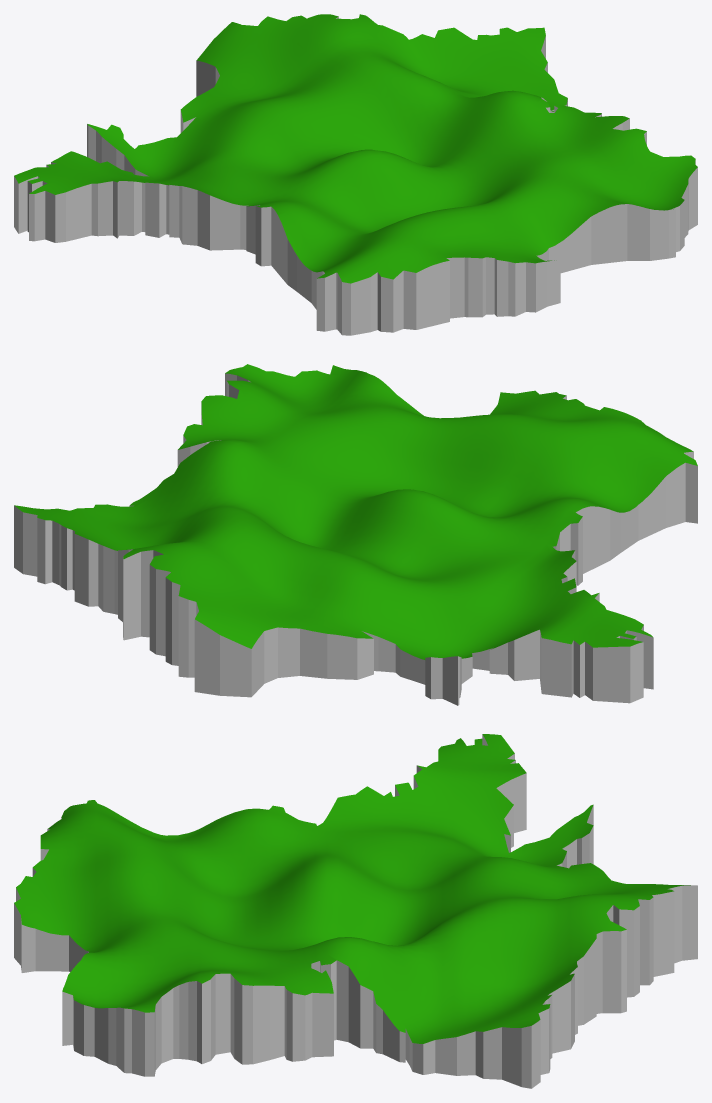
The model's file is MapWithTextures.gltf.
The picture shows the model from 3 angles, top to bottom: view 1: azimuth 30°, elevation 25°; view 2: azimuth 150°, elevation 25°; view 3: azimuth 270°, elevation 25°; orthographic projection. The views are drawn at different scales.
Parts seen in each view (by area): view 1: Cube.001; view 2: Cube.001; view 3: Cube.001.
Boxes of the visible parts, x1,y1,x2,y2 form: Cube.001: (14,14,697,335); Cube.001: (14,364,697,705); Cube.001: (14,734,697,1088).
Size of the model in its own units: 4.71 by 0.6675 by 4.56.
